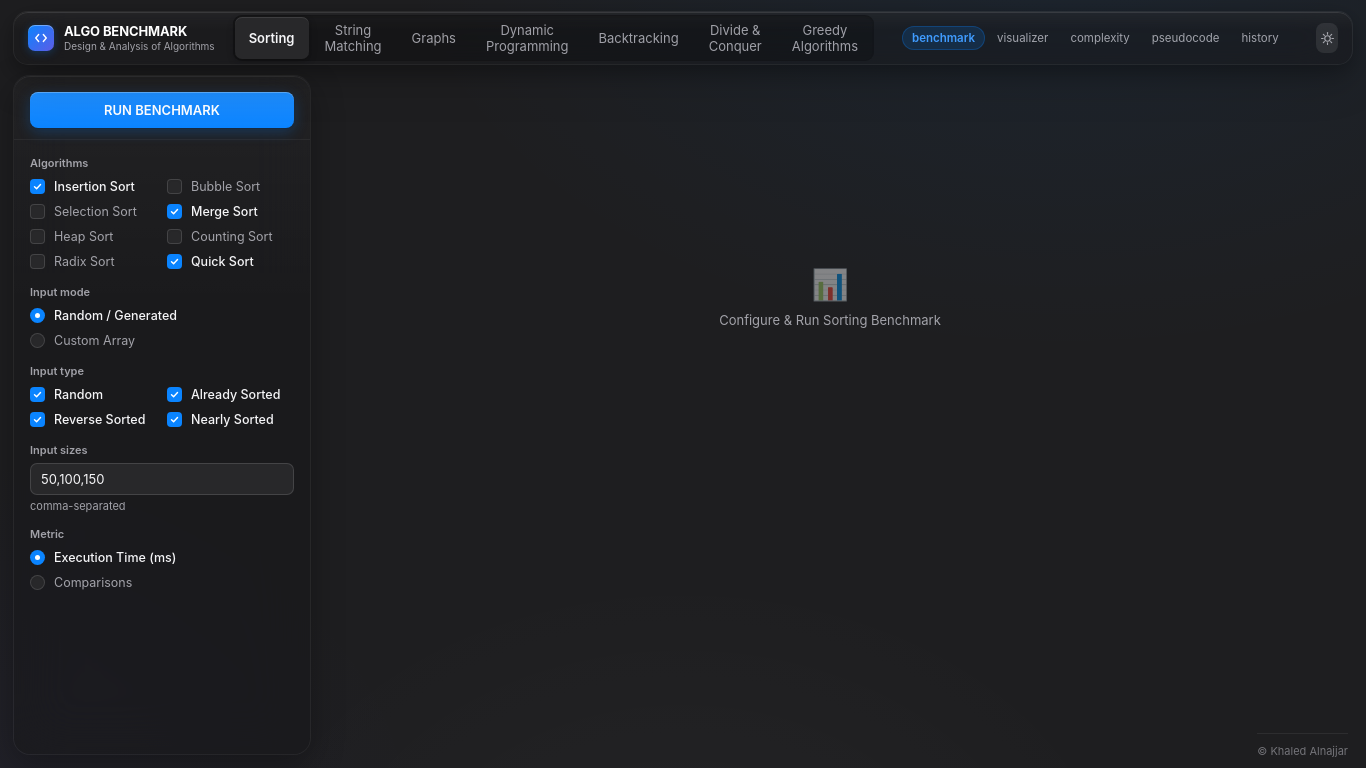
Test case: Algo App › switches to string matching and runs a benchmark
The width and height of the screenshot is (1366, 768).
Step 1. Click the button "String Matching" → click(354, 38), box [311,17,396,59]
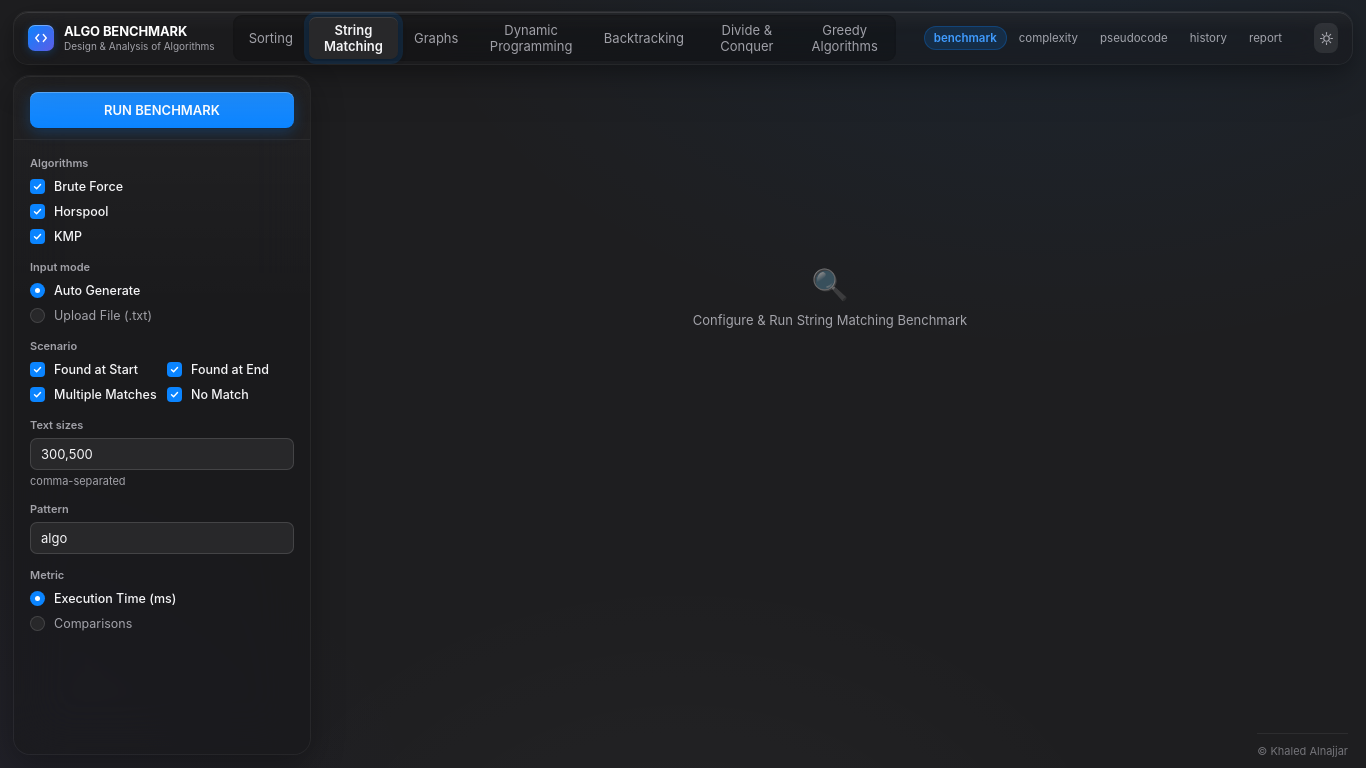
Step 2. Click the button "RUN BENCHMARK" → click(162, 110), box [30,92,294,128]
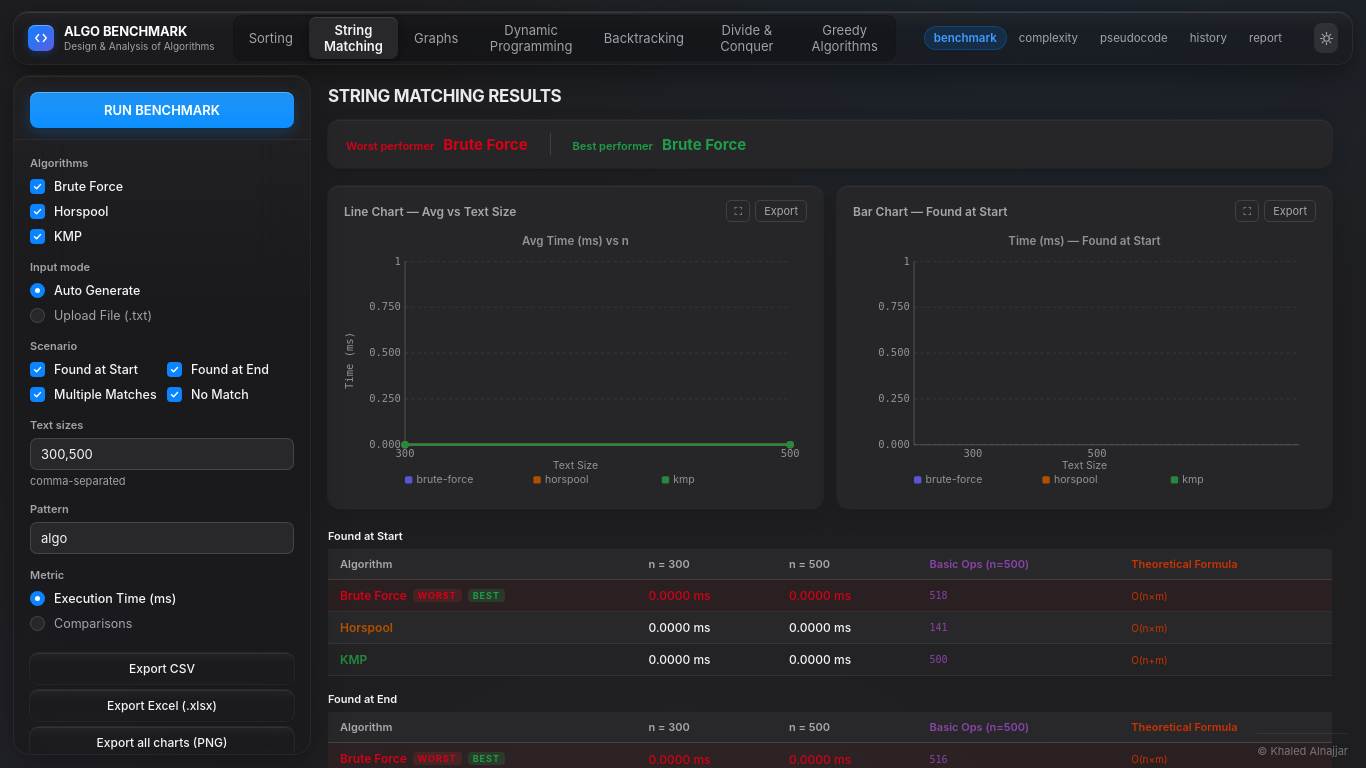
Check: the text "Brute Force" is shown, box [30,178,123,194]
Check: the text "KMP" is shown, box [30,228,82,244]
Check: the text "STRING MATCHING RESULTS" is shown, box [328,86,561,106]
